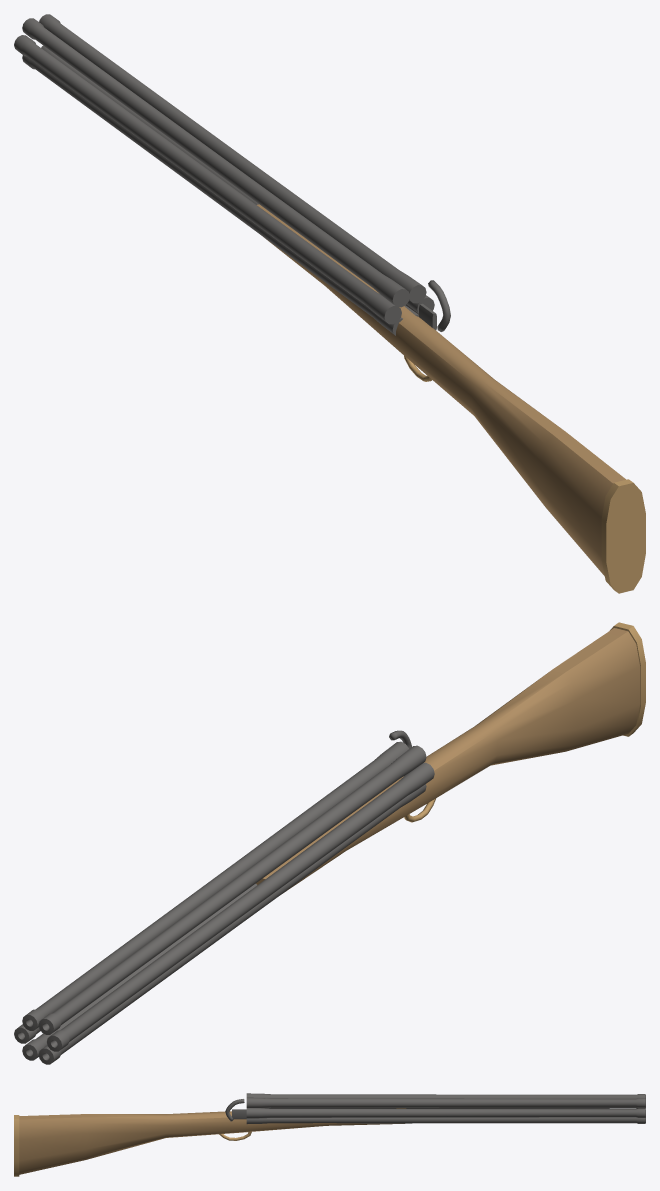
Rendered from pepperbox-rifle.glb.
3 views of the same model, one above another, from view 1: azimuth 30°, elevation 25°; view 2: azimuth 150°, elevation 25°; view 3: azimuth 270°, elevation 25° (orthographic). The views are drawn at different scales.
Parts seen in each view (by area): view 1: pepperbox-rifle; view 2: pepperbox-rifle; view 3: pepperbox-rifle.
Boxes of the visible parts, box(x1,y1,x2,y2) form: pepperbox-rifle: box(14, 14, 645, 593); pepperbox-rifle: box(14, 622, 645, 1064); pepperbox-rifle: box(14, 1093, 645, 1176).
Size of the model in its own units: 0.129 by 0.3681 by 2.61.
